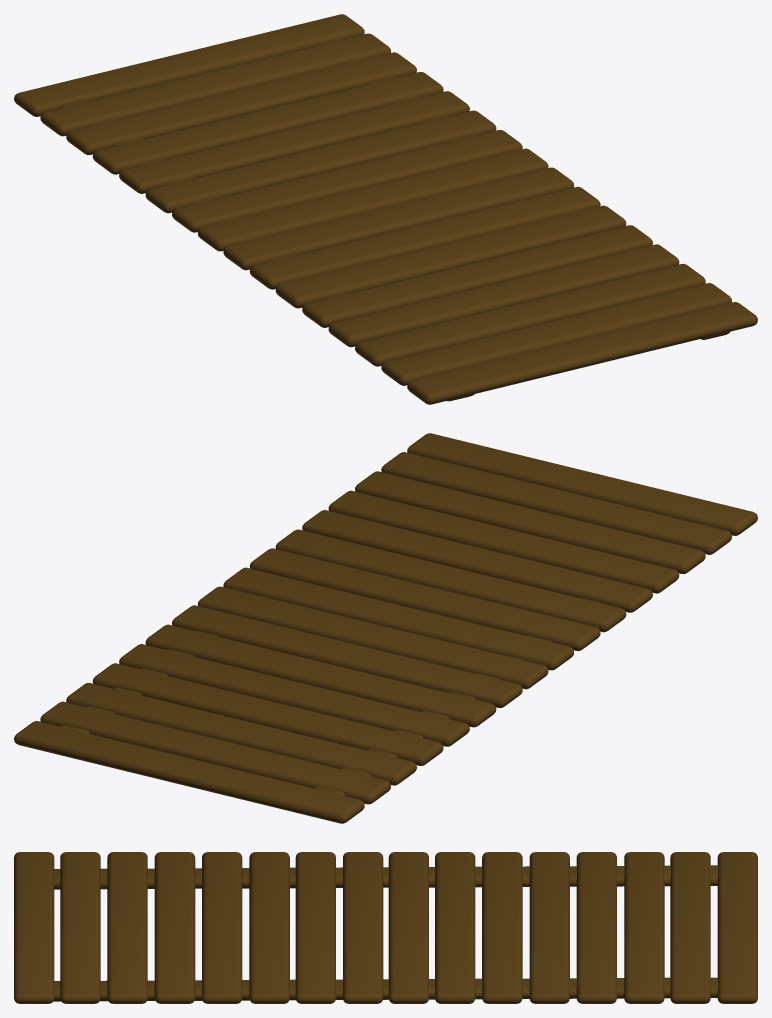
The model's file is WoodStylizedProceduralTry2.fbx.
3 views of the same model, one above another, from view 1: azimuth 30°, elevation 25°; view 2: azimuth 150°, elevation 25°; view 3: azimuth 270°, elevation 25° (orthographic). The views are drawn at different scales.
Visible parts, largest first — view 1: Plank1; view 2: Plank1; view 3: Plank1.
Part boxes in pixels (x1,y1,x2,y2): Plank1: (14, 14, 757, 404); Plank1: (14, 433, 757, 823); Plank1: (14, 852, 757, 1003).
Bounding box in the file's own units: 312 × 17.2 × 676.
